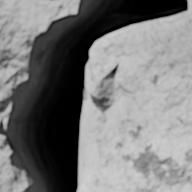brick: (81, 14, 191, 191)
crack: (0, 0, 189, 191)
